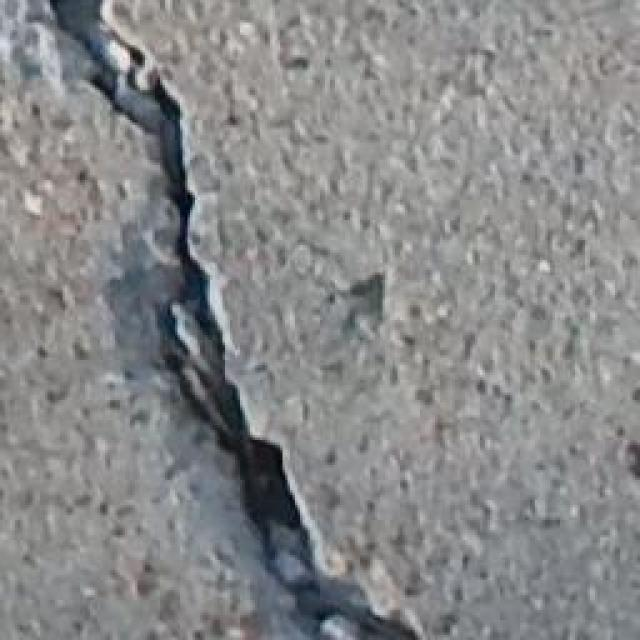concrete-crack: (33, 2, 433, 640)
